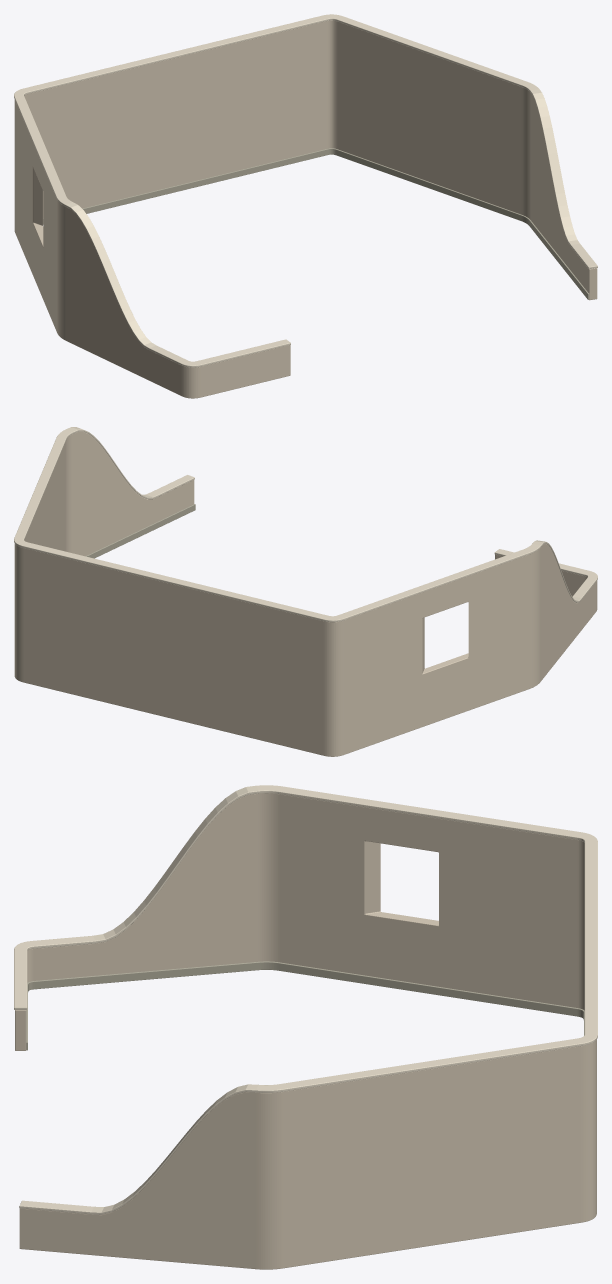
File: laboratory-shell.glb
3 renders of one model, top to bottom at view 1: azimuth 30°, elevation 25°; view 2: azimuth 150°, elevation 25°; view 3: azimuth 270°, elevation 25°, orthographic. The views are drawn at different scales.
Parts seen in each view (by area): view 1: one-piece room shell, unbroken wall coping, unbroken floor trim; view 2: one-piece room shell, unbroken wall coping, unbroken floor trim; view 3: one-piece room shell, unbroken wall coping, unbroken floor trim.
Part boxes in pixels (x1,y1,x2,y2): one-piece room shell: (14, 20, 597, 398); unbroken wall coping: (14, 14, 597, 367); unbroken floor trim: (43, 148, 589, 299); one-piece room shell: (14, 431, 597, 756); unbroken wall coping: (14, 427, 597, 622); unbroken floor trim: (85, 504, 195, 558); one-piece room shell: (15, 793, 596, 1269); unbroken wall coping: (14, 785, 597, 1214); unbroken floor trim: (26, 961, 584, 1050).
Bounding box in the file's own units: 11.46 × 3.14 × 9.26.
